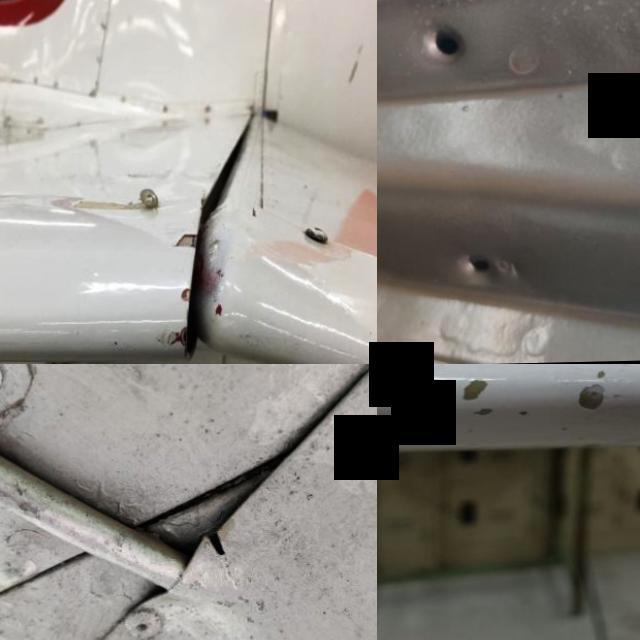Crack: (400, 364, 640, 451), (144, 219, 208, 364), (187, 511, 249, 578)
Missing_Fastener: (394, 0, 518, 107)
